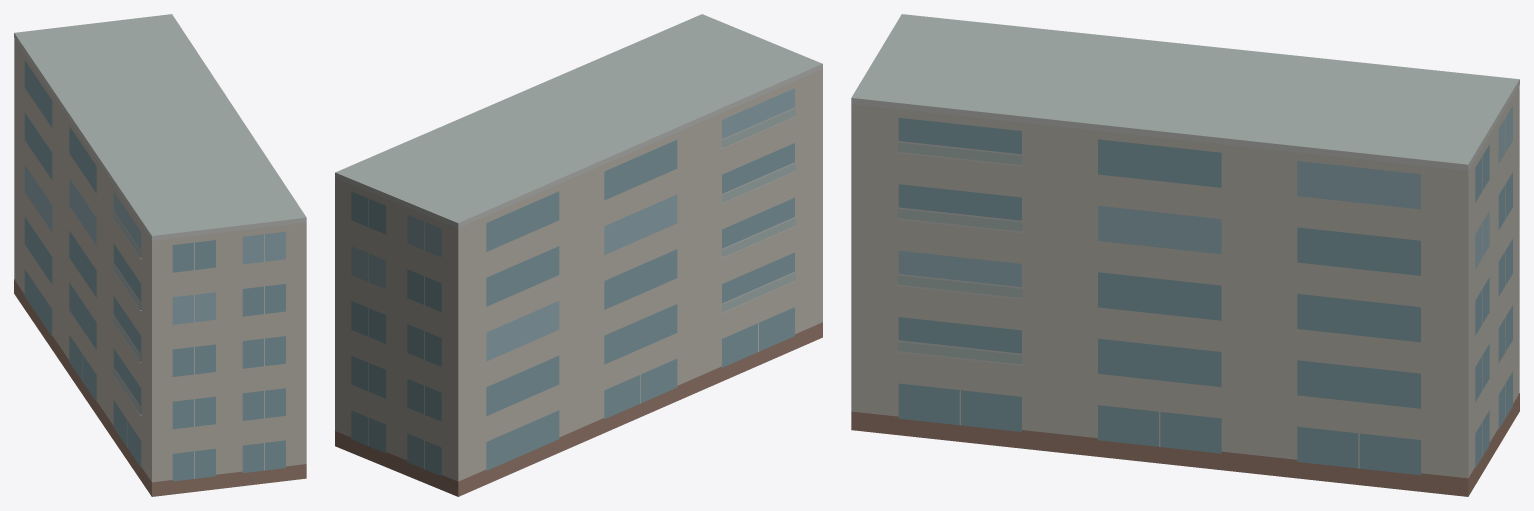
File: survey-upis-32522349.glb
3 views of the same model, side by side, from view 1: azimuth 30°, elevation 25°; view 2: azimuth 150°, elevation 25°; view 3: azimuth 270°, elevation 25° (orthographic). The views are drawn at different scales.
Parts seen in each view (by area): view 1: survey-upis-32522349.tmp; view 2: survey-upis-32522349.tmp; view 3: survey-upis-32522349.tmp.
Part boxes in pixels (x1=…): survey-upis-32522349.tmp: x1=14, y1=14, x2=306, y2=496; survey-upis-32522349.tmp: x1=335, y1=14, x2=822, y2=496; survey-upis-32522349.tmp: x1=851, y1=14, x2=1519, y2=496.
Bounding box in the file's own units: 12.85 × 13.2 × 24.08.
